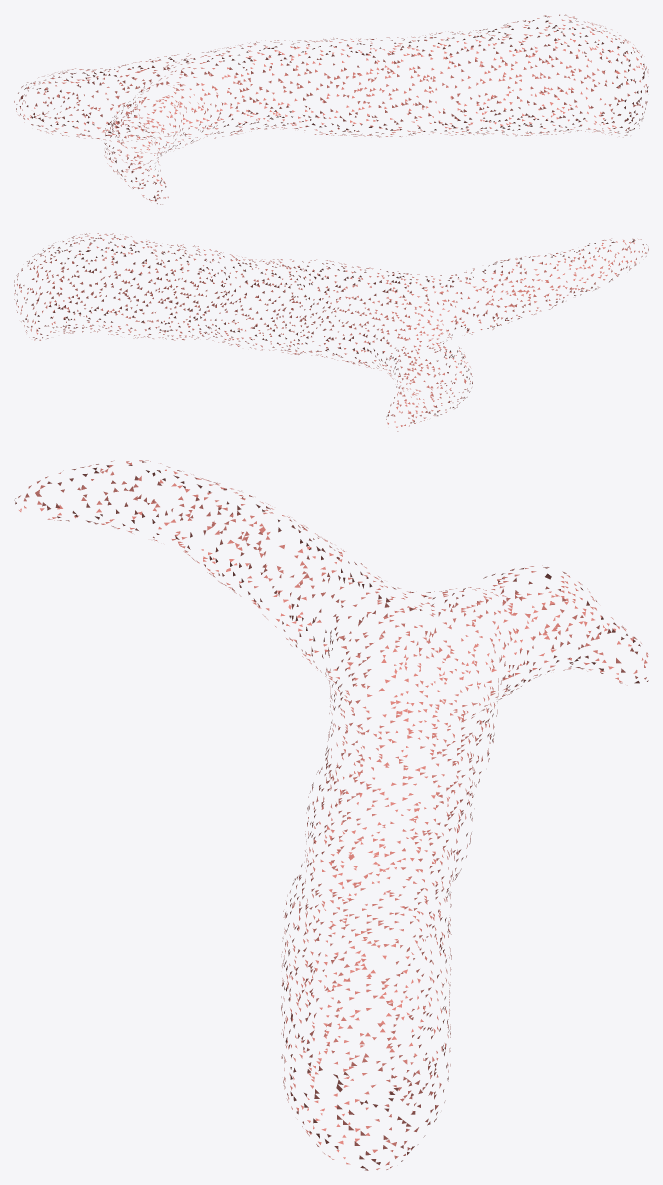
File: morph_001.glb
3 renders of one model, top to bottom at view 1: azimuth 30°, elevation 25°; view 2: azimuth 150°, elevation 25°; view 3: azimuth 270°, elevation 25°, orthographic. The views are drawn at different scales.
Bounding box in the file's own units: 134 × 40.56 × 80.28.
